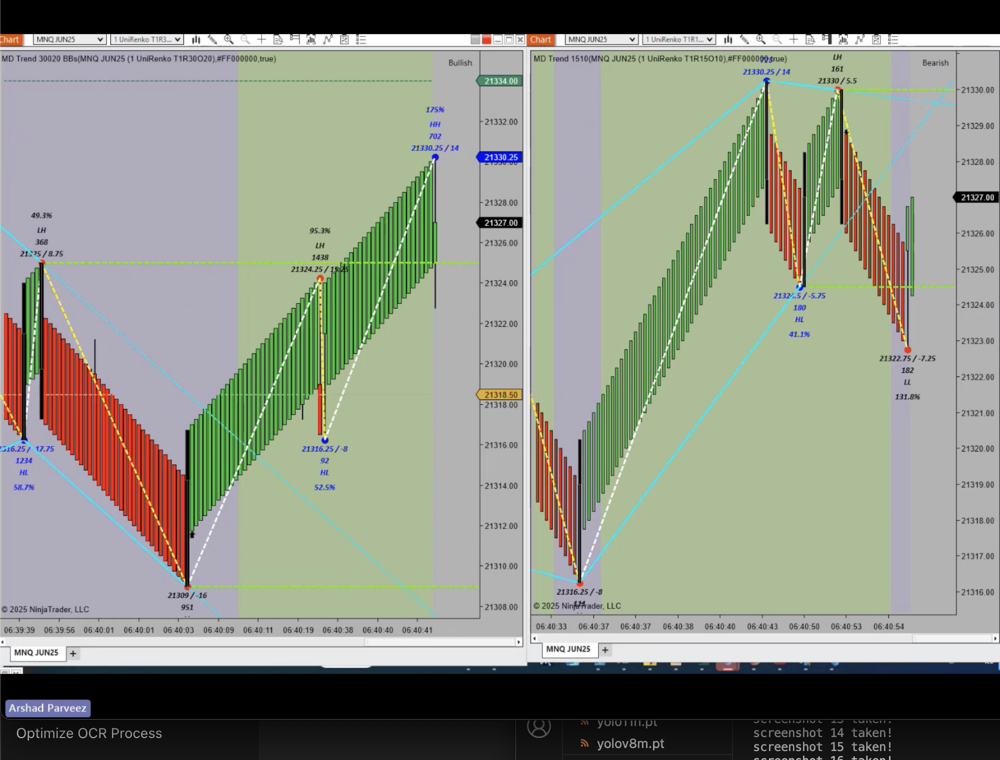HH: (426, 117, 448, 132)
HL: (790, 311, 810, 329), (316, 464, 334, 480), (16, 462, 30, 482)
LH: (827, 50, 850, 66), (310, 238, 331, 252), (34, 223, 51, 238)
LL: (899, 375, 919, 390)
